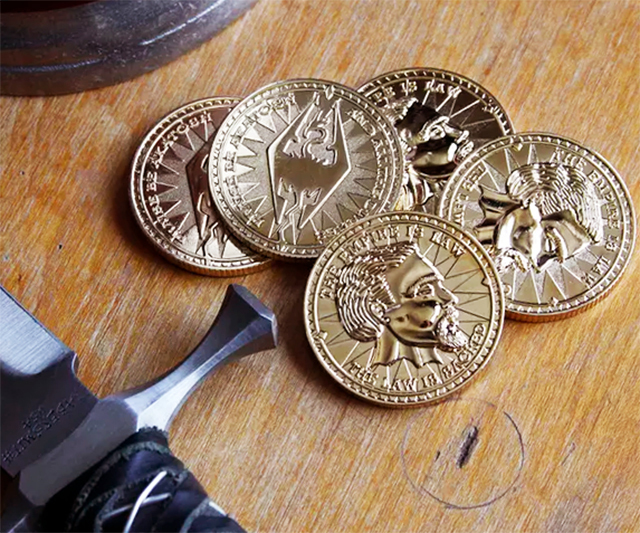coin: (302, 212, 505, 407), (435, 132, 637, 322), (207, 78, 405, 259), (125, 95, 292, 277), (358, 70, 517, 218)
